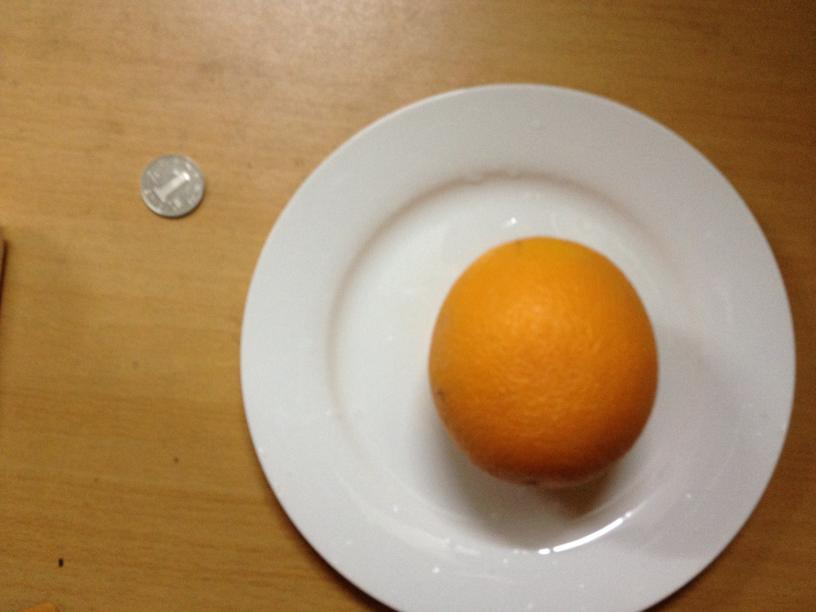coin: (140, 151, 205, 218)
orange: (428, 236, 656, 487)
